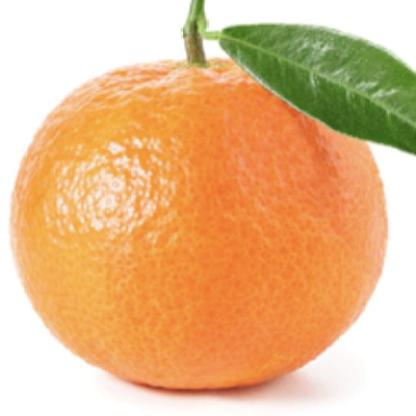fresh: (10, 42, 391, 396)
